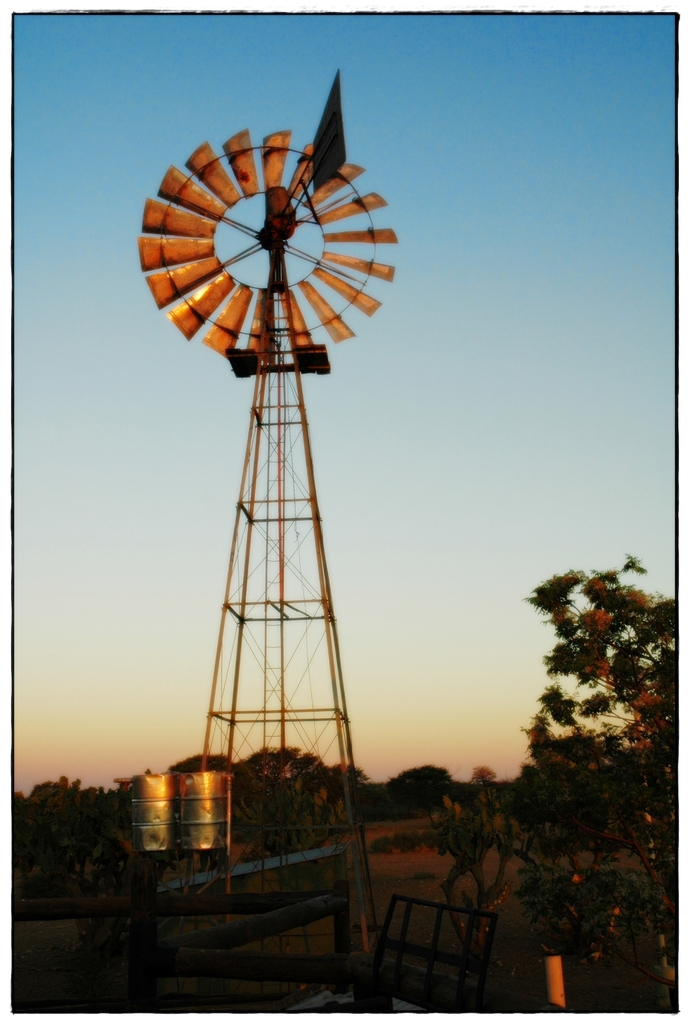Tree: (10, 537, 681, 1008)
